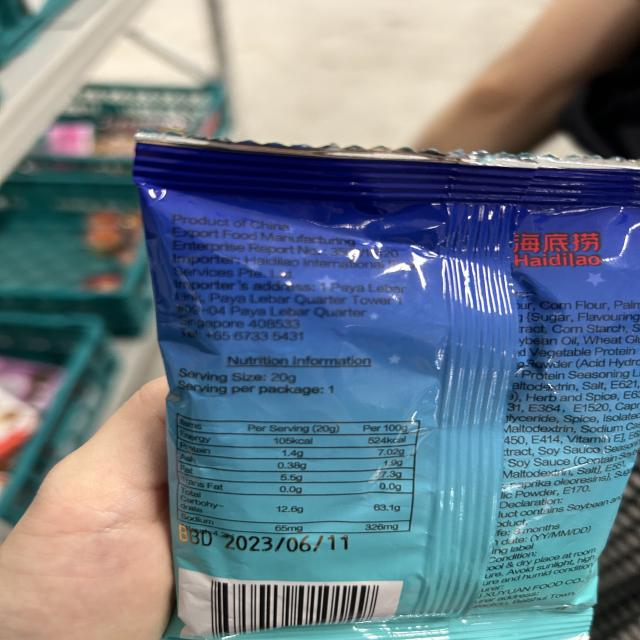object_name: (156, 155, 609, 640)
